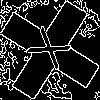X: (25, 25, 82, 77)
